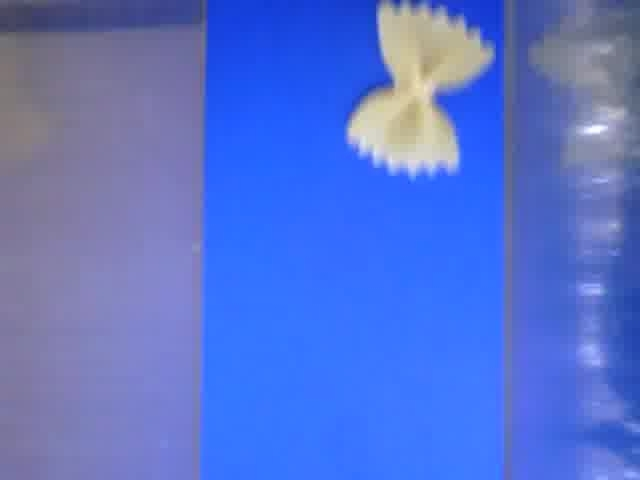farfalle: (343, 1, 497, 182)
